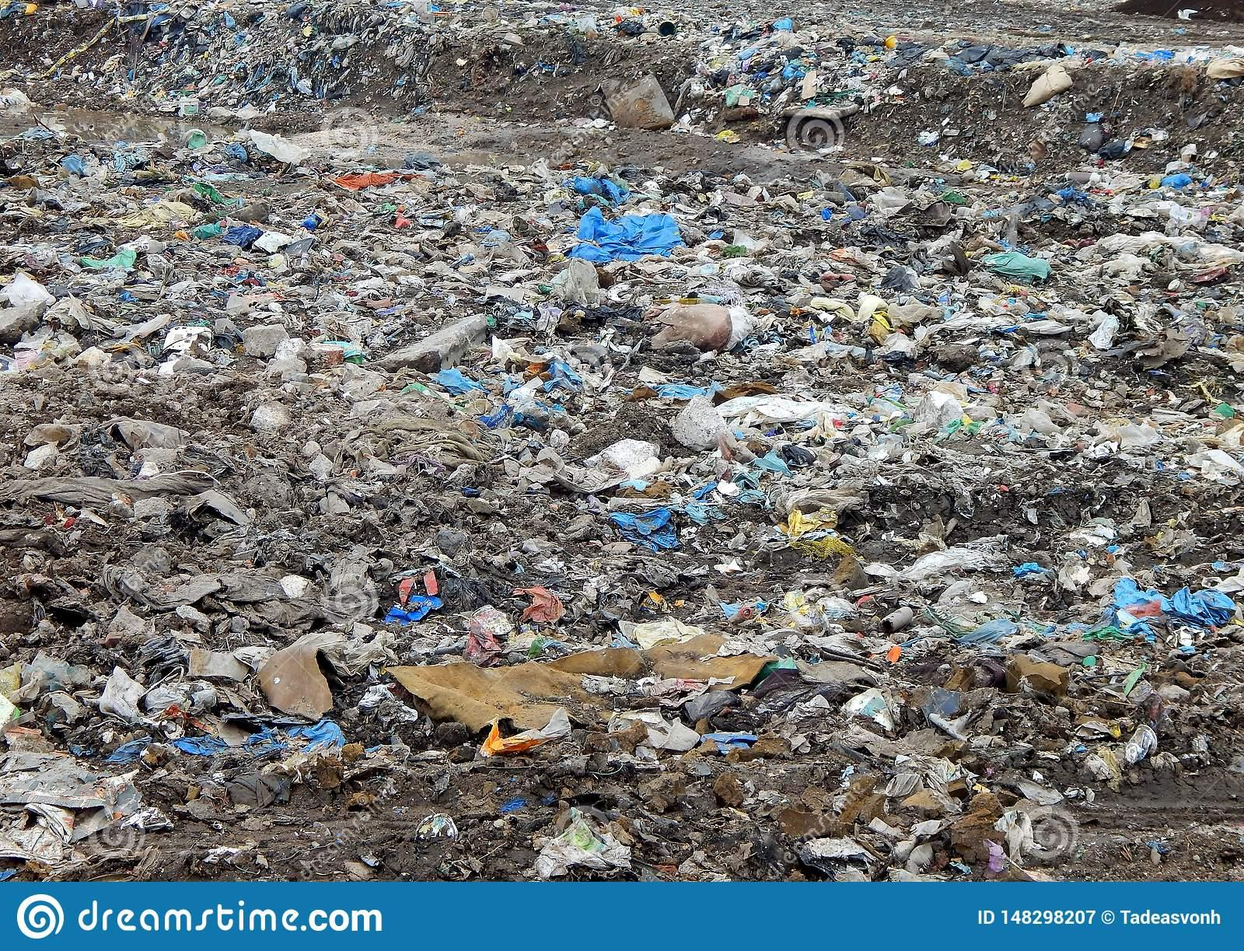garbage: (0, 0, 1244, 894)
